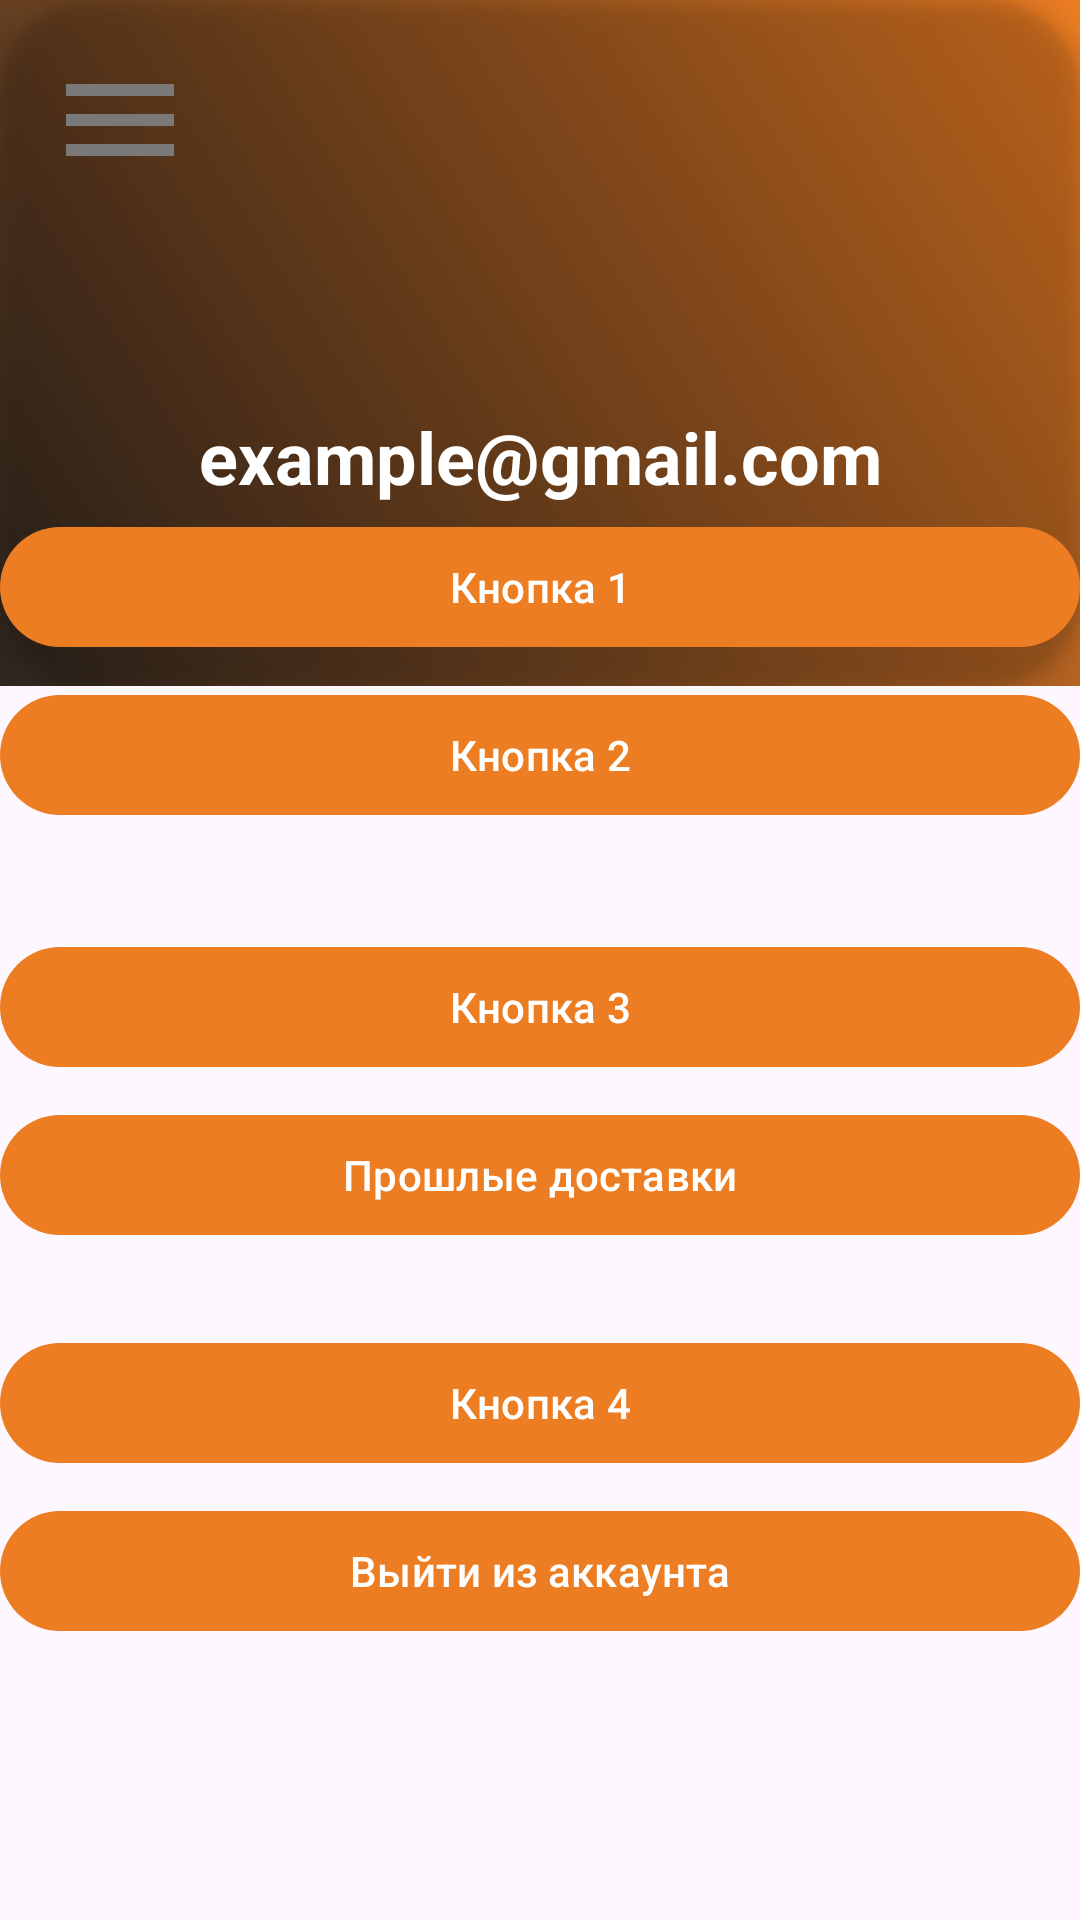

Named icons in this screenshot (1080 x 1920) and their bounding boxes, (x1, y1, x2, y2):
menu: (66, 84, 174, 156)
